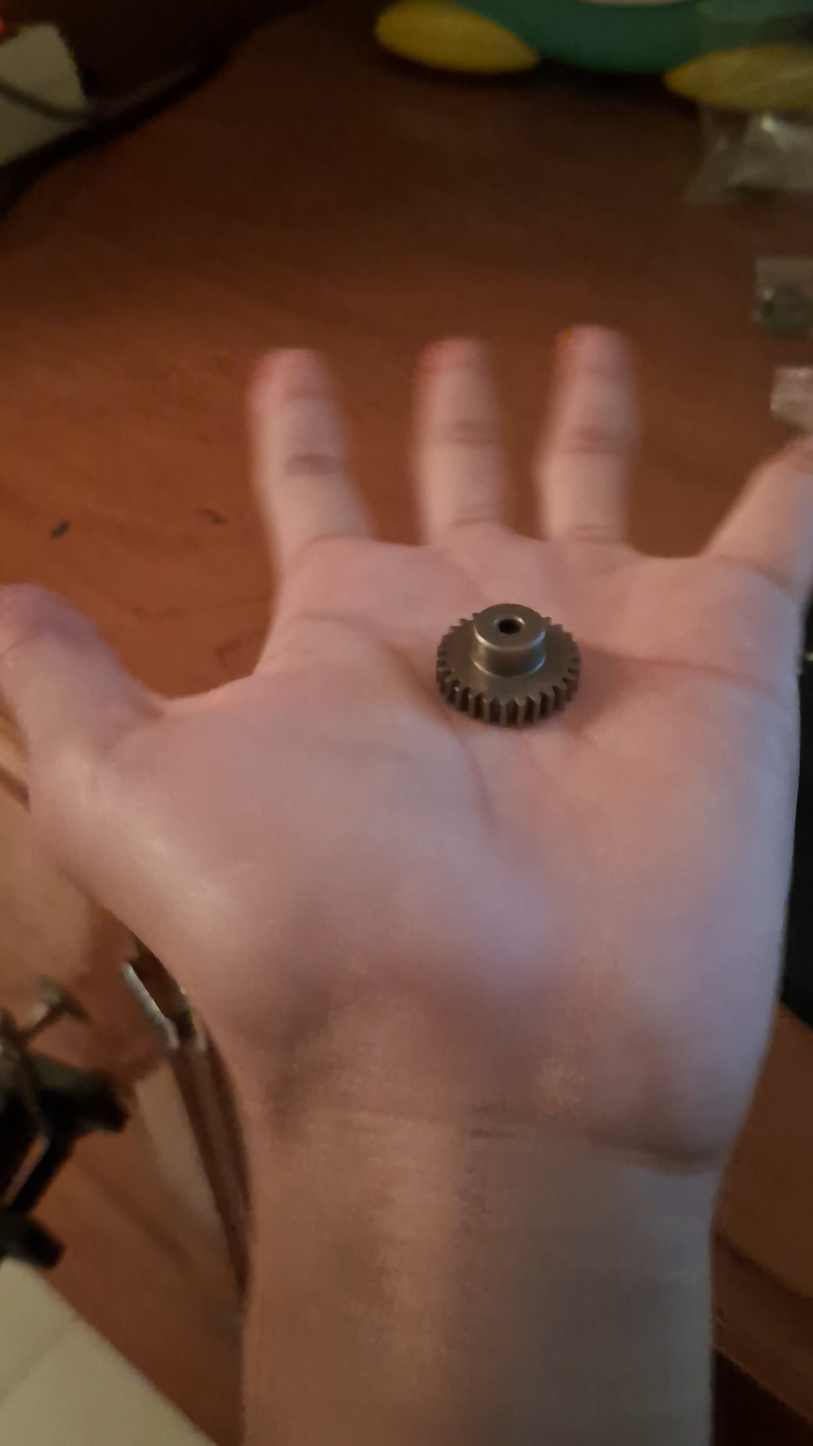spur gear: (436, 605, 580, 728)
